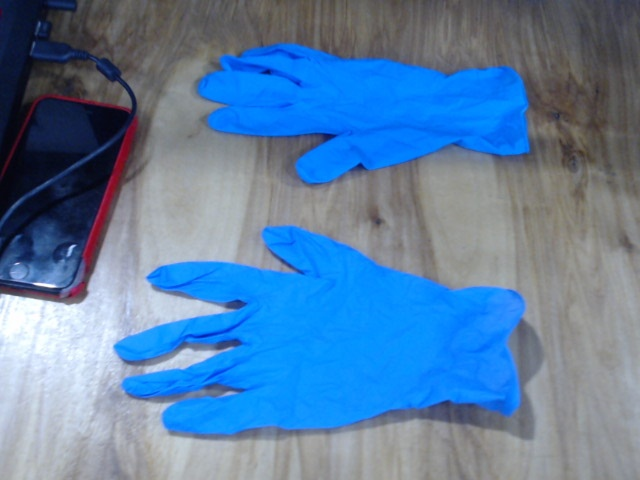medical_glove: (116, 225, 524, 435), (196, 41, 529, 181)
